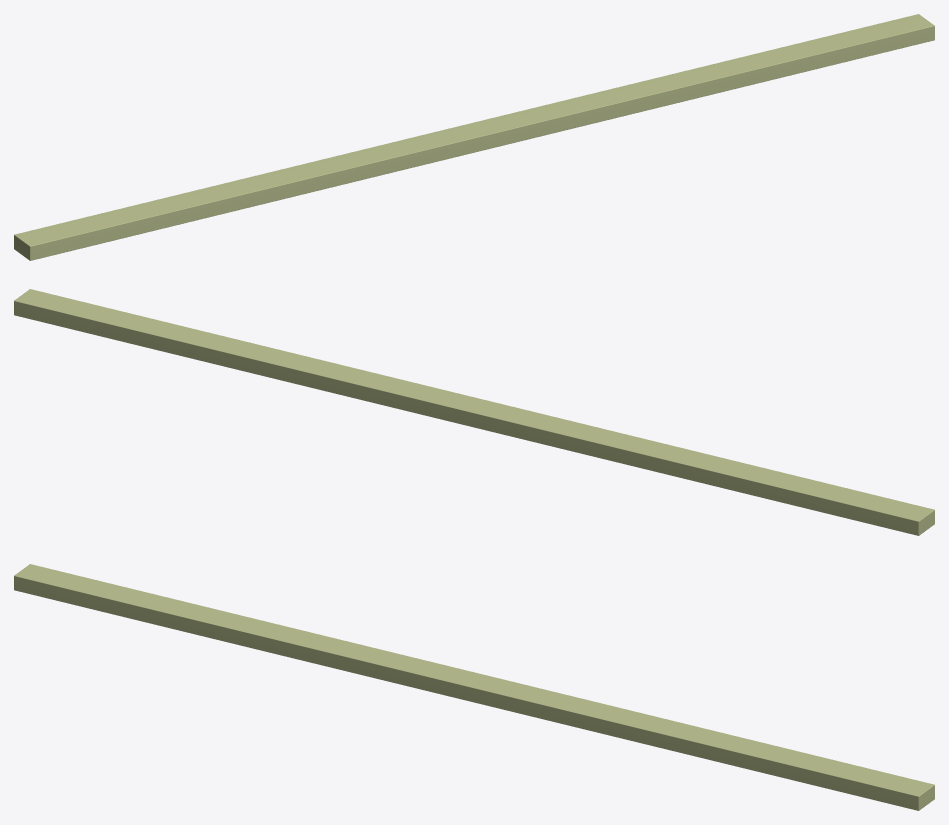
The model's file is Ceiling_lights_norods_small.fbx.
3 renders of one model, top to bottom at view 1: azimuth 30°, elevation 25°; view 2: azimuth 150°, elevation 25°; view 3: azimuth 330°, elevation 25°, orthographic.
Visible parts, largest first — view 1: polySurface865; view 2: polySurface865; view 3: polySurface865.
Part boxes in pixels (x1,y1,x2,y2): polySurface865: [14, 14, 934, 260]; polySurface865: [14, 289, 934, 535]; polySurface865: [14, 564, 934, 810].
Size of the model in its own units: 3.94 by 0.0691 by 0.1231.
